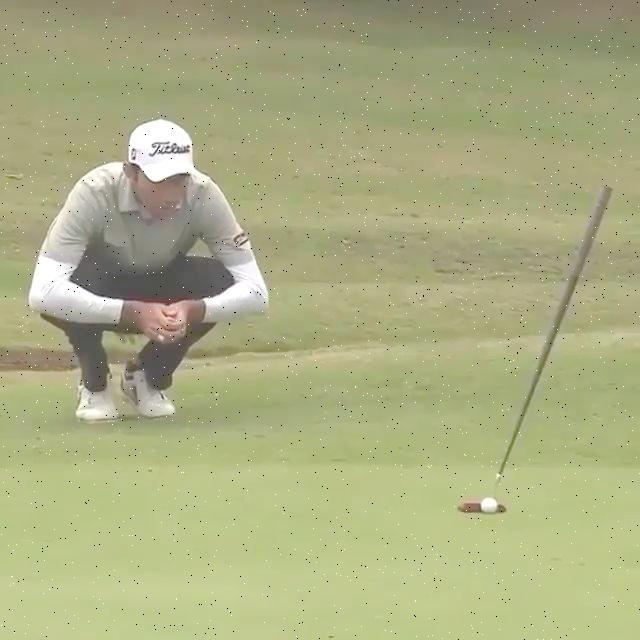golf ball: (480, 497, 497, 513)
golf club-handle: (457, 185, 613, 514)
golf club-head: (457, 503, 505, 514)
